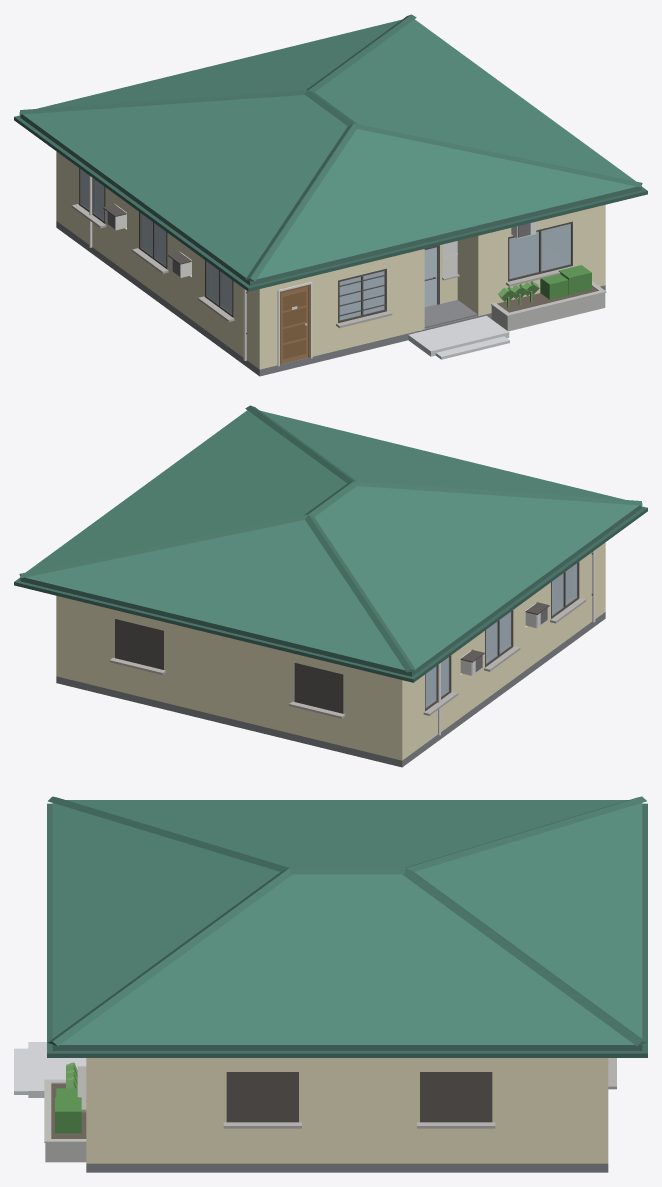
Rendered from corn_casava_building.glb.
The picture shows the model from 3 angles, top to bottom: view 1: azimuth 30°, elevation 25°; view 2: azimuth 150°, elevation 25°; view 3: azimuth 270°, elevation 25°; orthographic projection. The views are drawn at different scales.
Parts seen in each view (by area): view 1: CC_Roof_Surface, CC_CC_WallYellow_Merged, CC_CC_WindowGlass_Merged, CC_CC_RoofRidge_Merged, CC_CC_GutterTeal_Merged, CC_CC_PlinthGrey_Merged, CC_CC_FasciaTeal_Merged, CC_CC_FrameBronze_Merged, CC_CC_StoopTile_Merged, CC_CC_PlanterConcrete_Merged, CC_CC_WoodRecess_Merged, CC_CC_SillConcrete_Merged (+9 smaller); view 2: CC_Roof_Surface, CC_CC_WallYellow_Merged, CC_CC_RoofRidge_Merged, CC_CC_FrameBronze_Merged, CC_CC_GutterTeal_Merged, CC_CC_PlinthGrey_Merged, CC_CC_FasciaTeal_Merged, CC_CC_WindowGlass_Merged, CC_CC_SillConcrete_Merged; view 3: CC_Roof_Surface, CC_CC_WallYellow_Merged, CC_CC_RoofRidge_Merged, CC_CC_FrameBronze_Merged, CC_CC_GutterTeal_Merged, CC_CC_PlinthGrey_Merged, CC_CC_FasciaTeal_Merged, CC_CC_StoopTile_Merged, CC_CC_SillConcrete_Merged, CC_CC_PlanterConcrete_Merged, CC_CC_FoliageBush_Merged, CC_Planter_Soil.
Part boxes in pixels (x1=…): CC_Roof_Surface: x1=23, y1=19, x2=636, y2=280; CC_CC_WallYellow_Merged: x1=56, y1=151, x2=605, y2=369; CC_CC_WindowGlass_Merged: x1=81, y1=169, x2=570, y2=320; CC_CC_RoofRidge_Merged: x1=19, y1=14, x2=642, y2=281; CC_CC_GutterTeal_Merged: x1=14, y1=115, x2=647, y2=291; CC_CC_PlinthGrey_Merged: x1=56, y1=221, x2=605, y2=376; CC_CC_FasciaTeal_Merged: x1=20, y1=114, x2=641, y2=285; CC_CC_FrameBronze_Merged: x1=79, y1=168, x2=572, y2=333; CC_CC_StoopTile_Merged: x1=408, y1=315, x2=509, y2=359; CC_CC_PlanterConcrete_Merged: x1=491, y1=281, x2=606, y2=331; CC_CC_WoodRecess_Merged: x1=280, y1=284, x2=310, y2=364; CC_CC_SillConcrete_Merged: x1=71, y1=204, x2=575, y2=328; CC_Roof_Surface: x1=25, y1=410, x2=638, y2=671; CC_CC_WallYellow_Merged: x1=56, y1=542, x2=605, y2=760; CC_CC_RoofRidge_Merged: x1=19, y1=405, x2=642, y2=672; CC_CC_FrameBronze_Merged: x1=115, y1=553, x2=592, y2=713; CC_CC_GutterTeal_Merged: x1=14, y1=506, x2=647, y2=682; CC_CC_PlinthGrey_Merged: x1=56, y1=612, x2=605, y2=767; CC_CC_FasciaTeal_Merged: x1=20, y1=505, x2=641, y2=676; CC_CC_WindowGlass_Merged: x1=425, y1=563, x2=577, y2=707; CC_CC_SillConcrete_Merged: x1=109, y1=597, x2=586, y2=718; CC_Roof_Surface: x1=52, y1=800, x2=642, y2=1044; CC_CC_WallYellow_Merged: x1=86, y1=1058, x2=608, y2=1163; CC_CC_RoofRidge_Merged: x1=47, y1=796, x2=646, y2=1046; CC_CC_FrameBronze_Merged: x1=226, y1=1072, x2=492, y2=1122; CC_CC_GutterTeal_Merged: x1=47, y1=803, x2=647, y2=1057; CC_CC_PlinthGrey_Merged: x1=86, y1=1163, x2=608, y2=1172; CC_CC_FasciaTeal_Merged: x1=52, y1=1045, x2=642, y2=1050; CC_CC_StoopTile_Merged: x1=14, y1=1042, x2=86, y2=1097; CC_CC_SillConcrete_Merged: x1=77, y1=1058, x2=616, y2=1128; CC_CC_PlanterConcrete_Merged: x1=44, y1=1079, x2=86, y2=1162; CC_CC_FoliageBush_Merged: x1=55, y1=1088, x2=81, y2=1133; CC_Planter_Soil: x1=51, y1=1084, x2=86, y2=1138.
Size of the model in its own units: 12.24 by 4.48 by 13.12.
